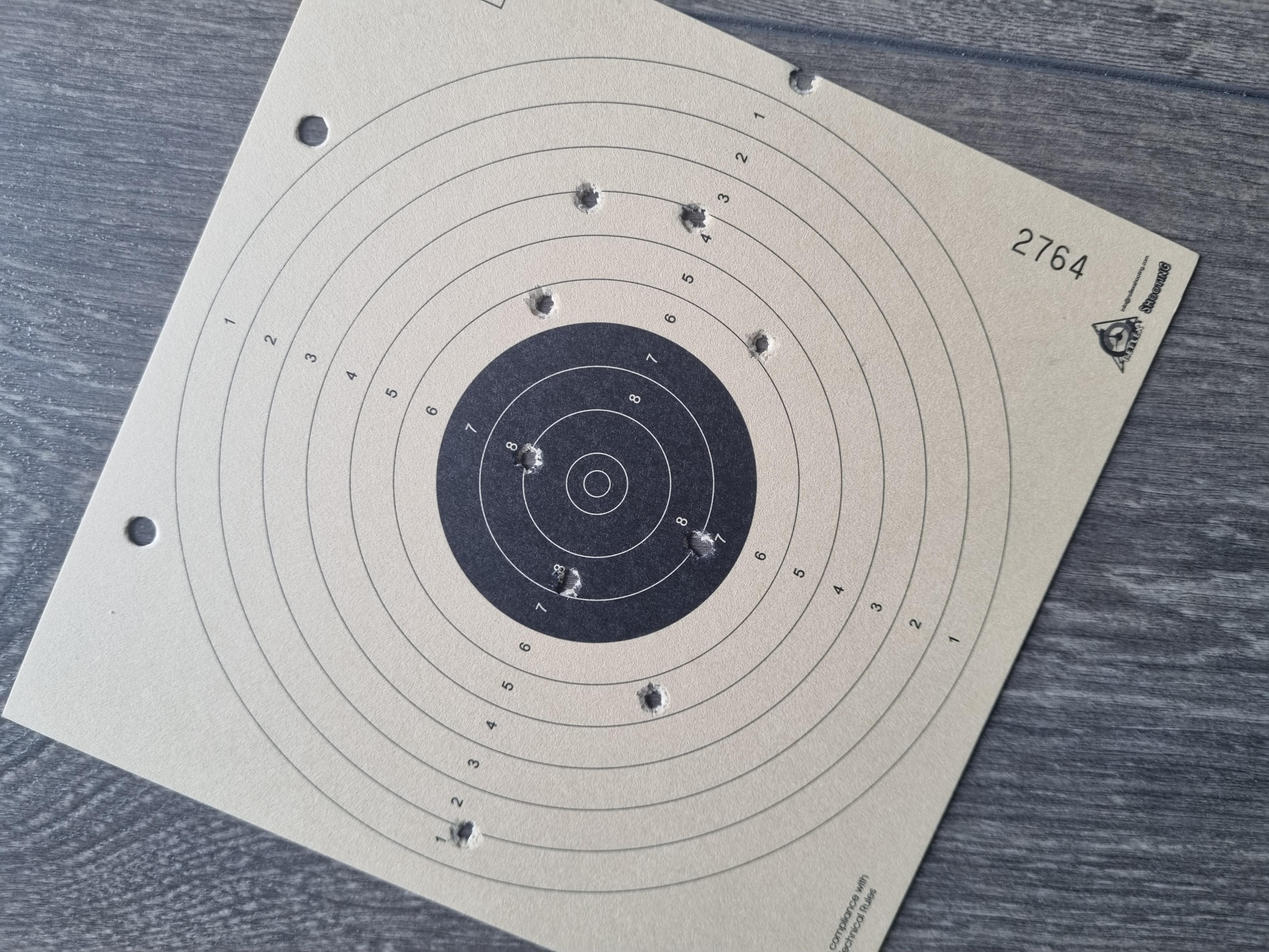hole: (522, 512, 563, 537), (958, 508, 999, 532), (637, 385, 679, 408), (843, 396, 889, 416), (471, 416, 513, 437), (318, 479, 358, 501), (1141, 591, 1179, 614), (983, 429, 1026, 449), (790, 560, 829, 581), (137, 337, 177, 357)
